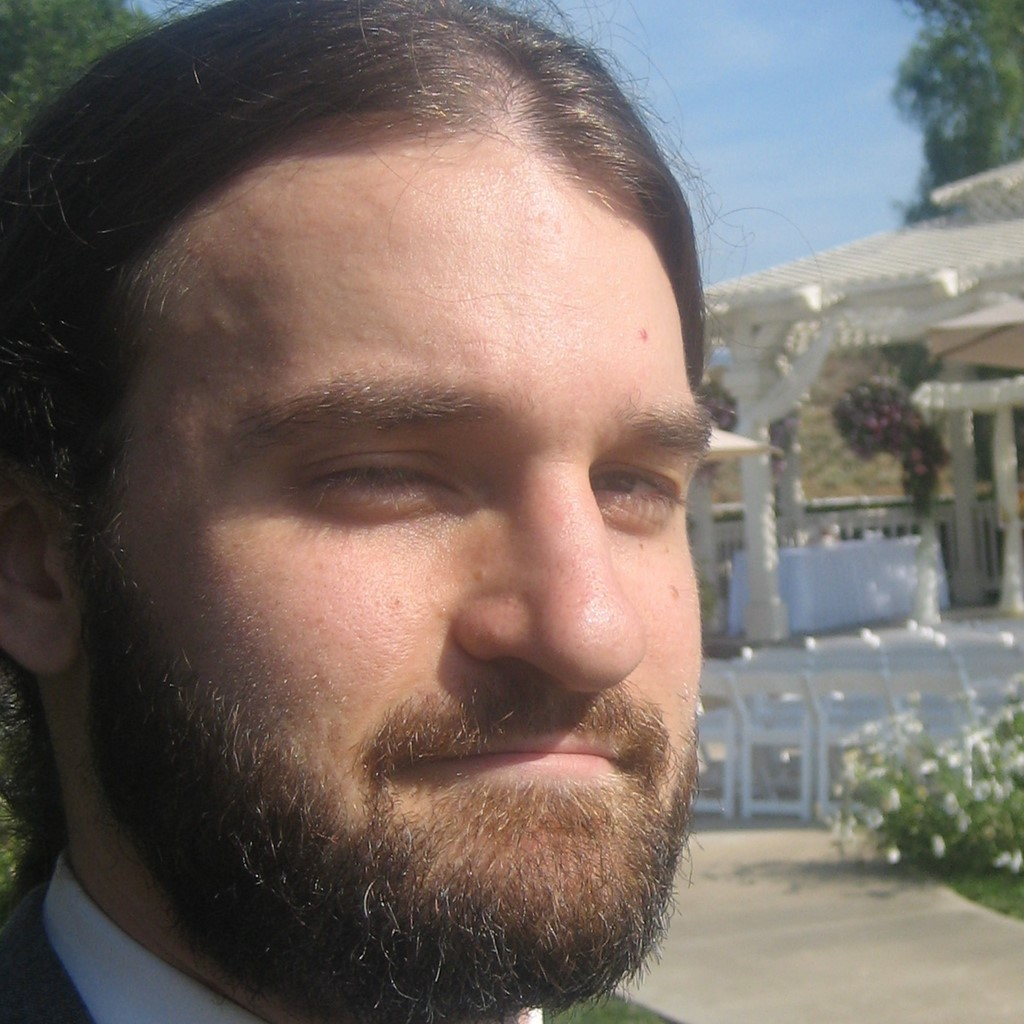sin_mascara: (94, 94, 713, 989)
